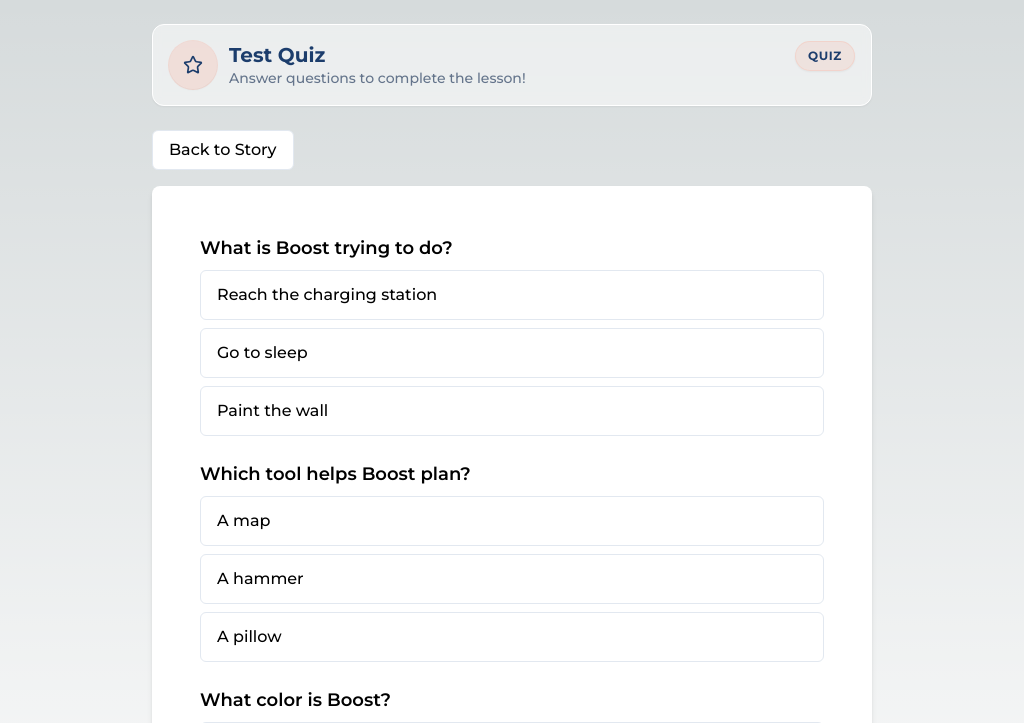
Scenario: LegacyListQuiz › re-answer clears per-question error state
What coordinates should you click on to do the following:
click the button "Go to sleep"
I would click on:
 (262, 352)
Its box is [200,328,824,378].
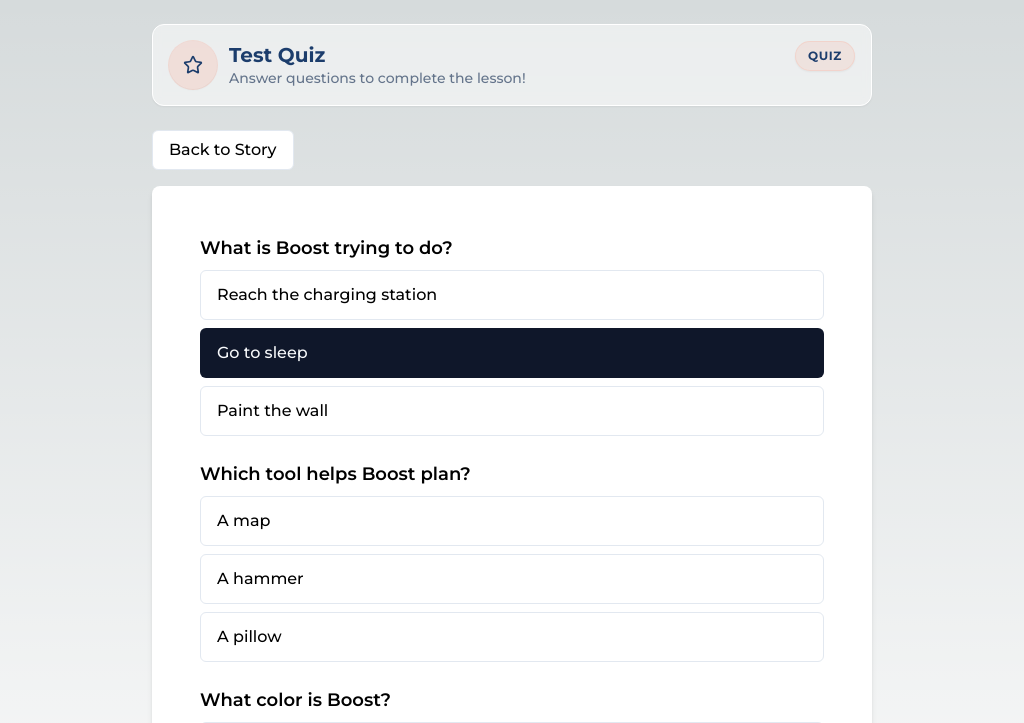
What coordinates should you click on to do the following:
click the button "A hammer"
I would click on:
 (260, 578)
Its box is [200,554,824,604].
(page scrolled)
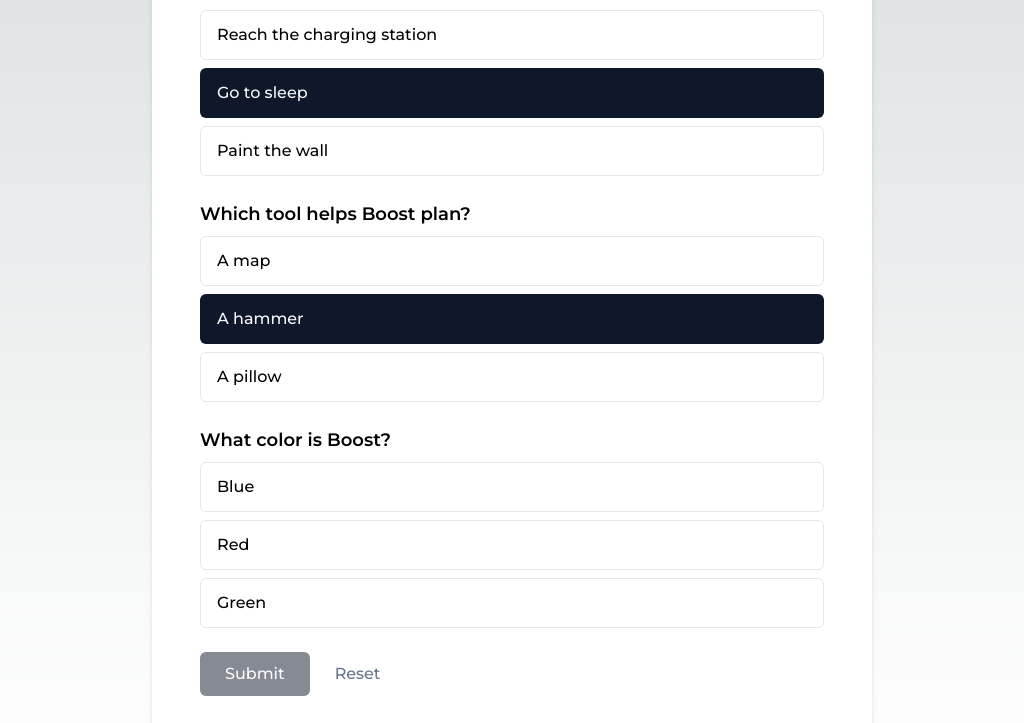
What coordinates should you click on to do the following:
click the button "Red"
I would click on:
 (233, 544)
Its box is [200,520,824,570].
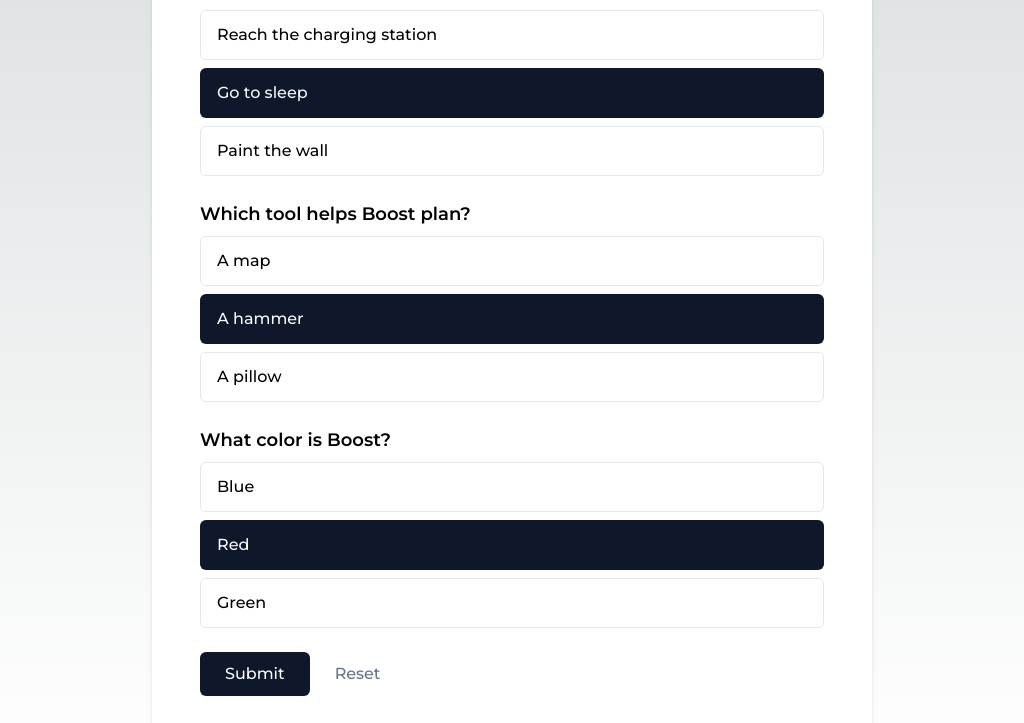
What coordinates should you click on to do the following:
click the button "Submit"
I would click on:
 (255, 674)
Its box is [200,652,310,696].
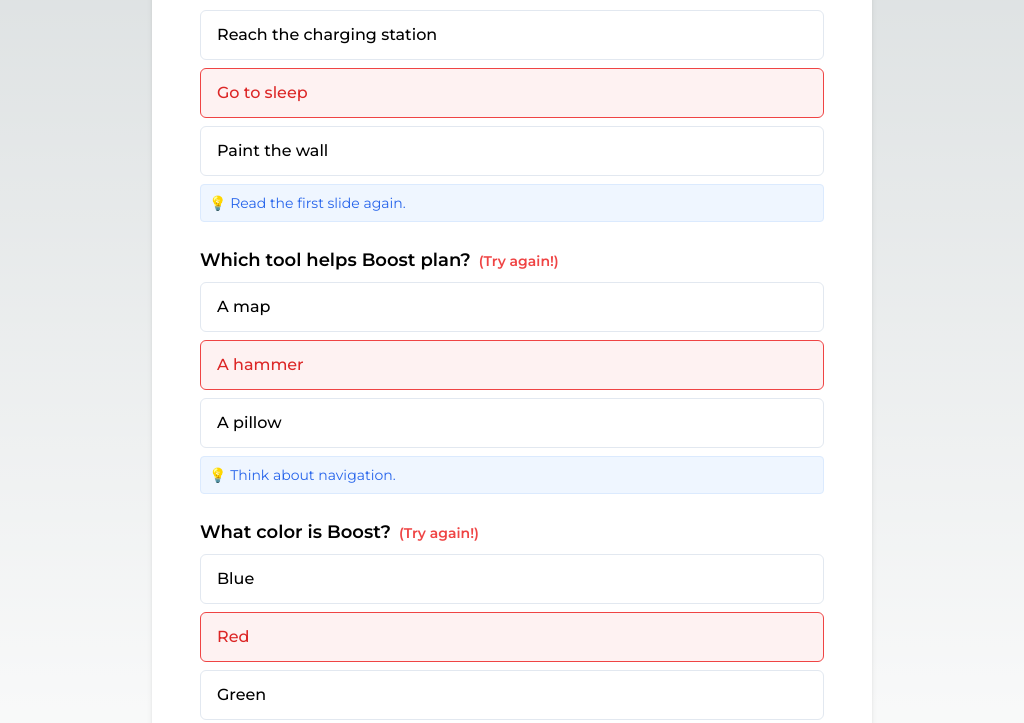
What coordinates should you click on to do the following:
click the button "Reach the charging station"
I would click on:
 (327, 34)
Its box is [200,10,824,60].
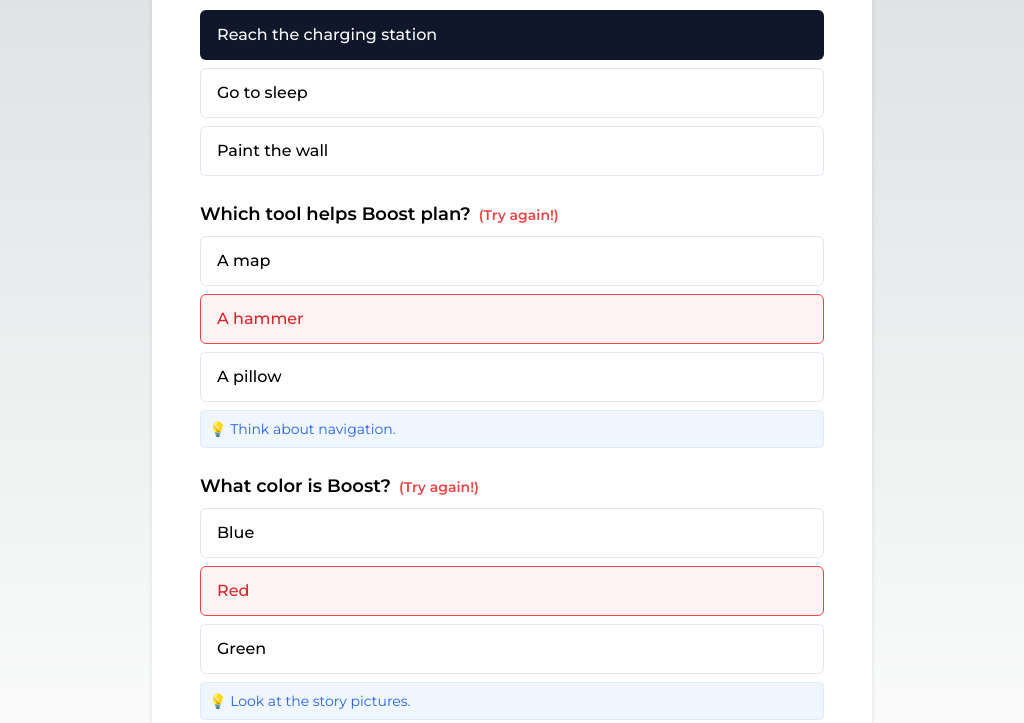
expect the text "Read the first slide again" is gone: met
